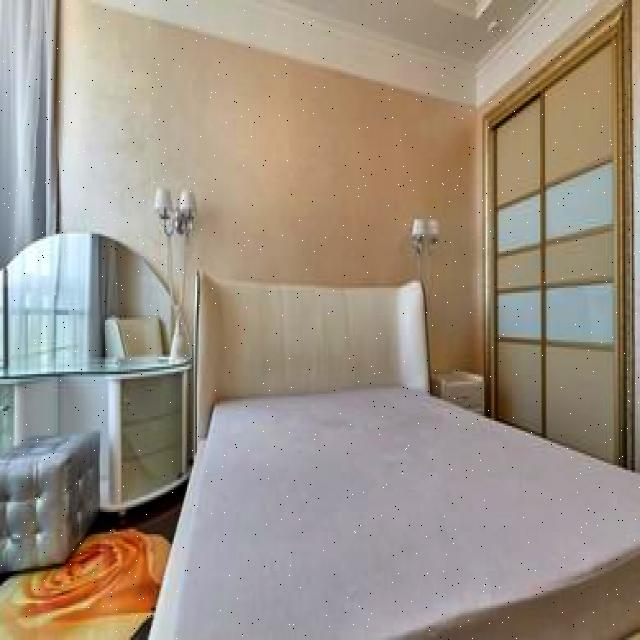bed: (175, 261, 640, 640)
